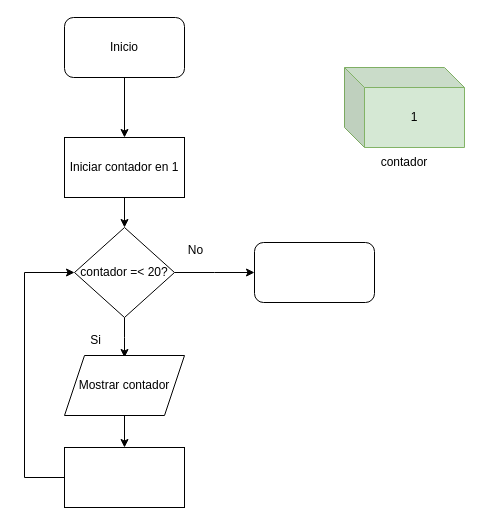
The diagram is 482 pixels wide and 525 high, and some of its shapes have lost their labels. The box of each missing label's shape, as (x1, y1, x2, y2) in pixels:
contador = contador + 1: (64, 446, 184, 508)
Fin: (254, 242, 374, 302)
